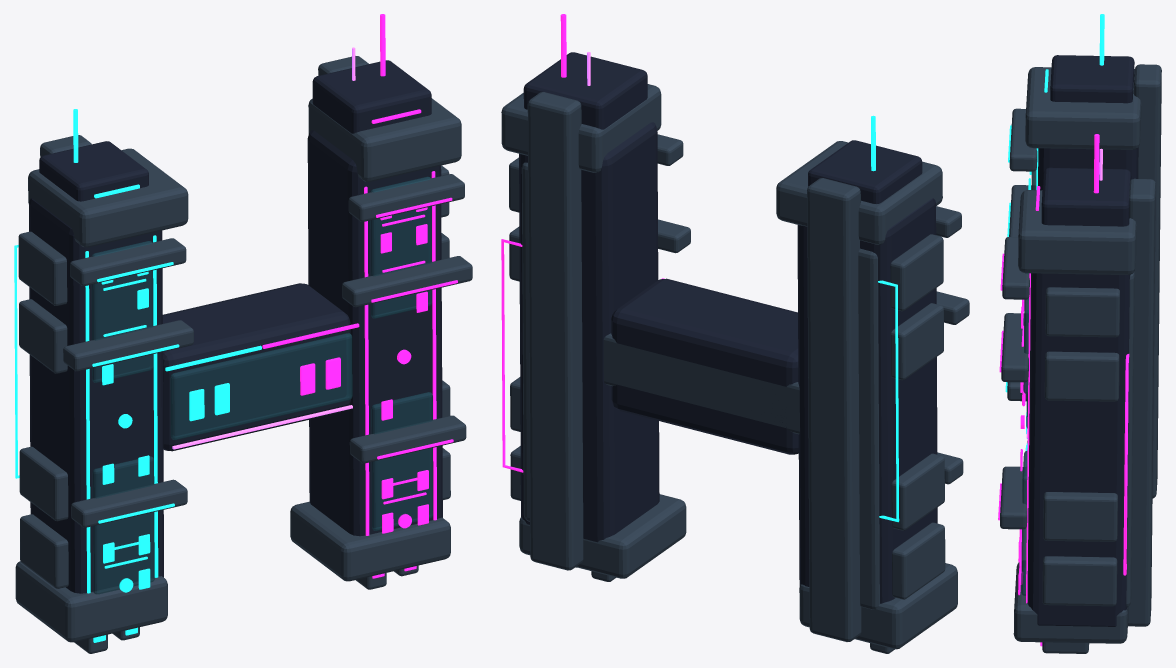
File: holsbi-core.glb
3 renders of one model, left to right at view 1: azimuth 30°, elevation 25°; view 2: azimuth 150°, elevation 25°; view 3: azimuth 270°, elevation 25°, orthographic. The views are drawn at different scales.
Parts seen in each view (by area): view 1: Core_Right, Core_Left, Core_Bridge, Glass_Bridge, Module_Left_Top, Module_Right_Low, Module_Right_Top, Module_Left_Low, Right_Roof_Crown, Glass_Right_Lower, Glass_Left_Lower, Left_Roof_Crown (+18 smaller); view 2: Right_Architecture_Spine, Core_Right, Left_Architecture_Spine, Core_Bridge, Core_Left, Bridge_Back_Rib, Left_Back_Rib, Right_Roof_Crown, Module_Right_Low, Module_Left_Top, Module_Left_Low, Module_Right_Top (+12 smaller); view 3: Core_Right, Right_Architecture_Spine, Module_Right_Top, Module_Left_Top, Right_Roof_Crown, Left_Architecture_Spine, Left_Roof_Crown, SidePlate_R_0, SidePlate_R_2, SidePlate_R_3, SidePlate_R_1, Module_Right_Low (+15 smaller).
Part boxes in pixels (box(x1,y1,x2,y2)): Core_Right: box(307, 130, 442, 536); Core_Left: box(29, 198, 163, 593); Core_Bridge: box(162, 283, 350, 451); Glass_Bridge: box(170, 333, 352, 439); Module_Left_Top: box(28, 148, 188, 247); Module_Right_Low: box(290, 501, 450, 581); Module_Right_Top: box(308, 98, 461, 181); Module_Left_Low: box(15, 561, 167, 642); Right_Roof_Crown: box(312, 60, 431, 133); Glass_Right_Lower: box(371, 392, 433, 530); Glass_Left_Lower: box(92, 456, 154, 594); Left_Roof_Crown: box(39, 141, 148, 201); Right_Architecture_Spine: box(527, 92, 583, 570); Core_Right: box(519, 122, 659, 542); Left_Architecture_Spine: box(807, 178, 861, 641); Core_Bridge: box(611, 278, 798, 454); Core_Left: box(797, 198, 937, 603); Bridge_Back_Rib: box(603, 333, 799, 434); Left_Back_Rib: box(858, 248, 879, 609); Right_Roof_Crown: box(523, 52, 647, 129); Module_Right_Low: box(519, 494, 686, 578); Module_Left_Top: box(776, 141, 942, 244); Module_Left_Low: box(799, 563, 957, 649); Module_Right_Top: box(501, 84, 661, 172); Core_Right: box(1027, 273, 1130, 626); Right_Architecture_Spine: box(1128, 178, 1155, 626); Module_Right_Top: box(1018, 190, 1136, 274); Module_Left_Top: box(1025, 67, 1141, 149); Right_Roof_Crown: box(1041, 167, 1131, 226); Left_Architecture_Spine: box(1133, 64, 1161, 498); Left_Roof_Crown: box(1050, 55, 1134, 103); SidePlate_R_0: box(1042, 556, 1117, 606); SidePlate_R_2: box(1044, 351, 1119, 401); SidePlate_R_3: box(1045, 287, 1119, 337); SidePlate_R_1: box(1043, 492, 1117, 541); Module_Right_Low: box(1013, 562, 1127, 643).
Bounding box in the file's own units: 6.77 × 8.92 × 2.54.
